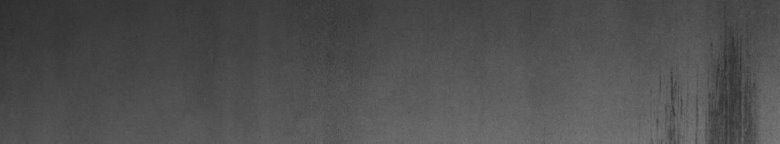ka: (656, 32, 752, 136)
